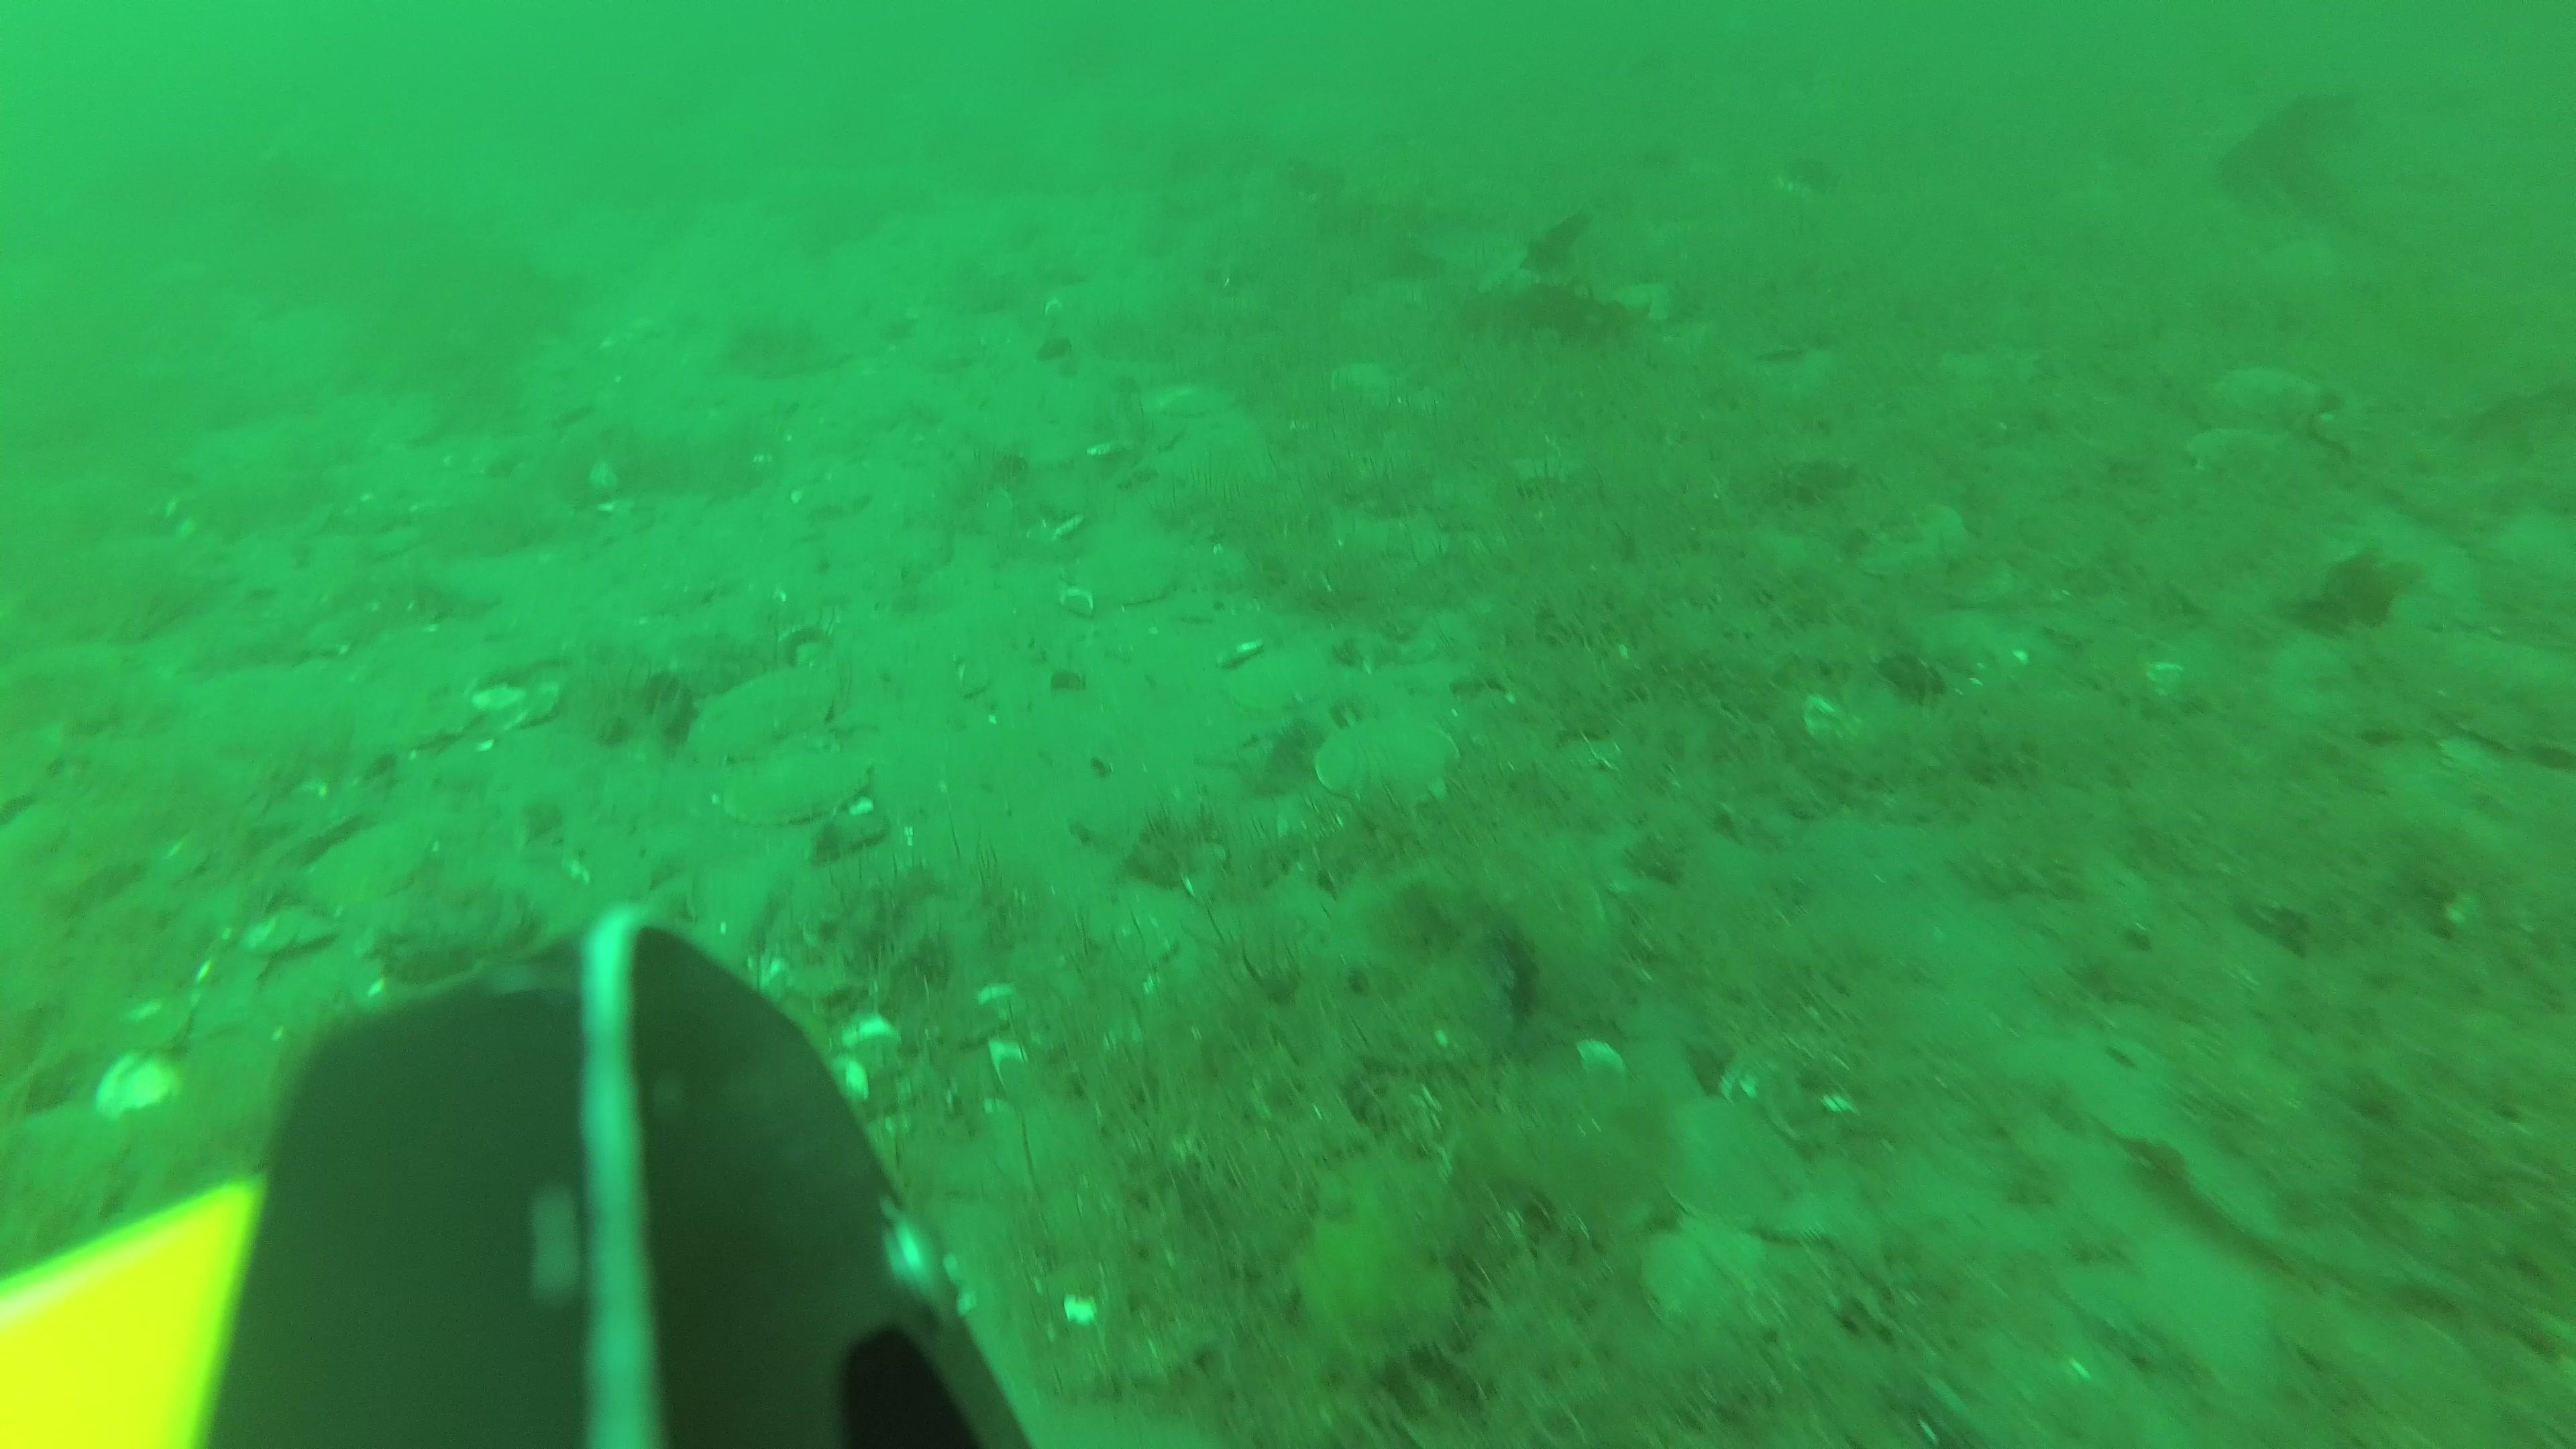scallop: (1658, 1092, 1798, 1226), (1644, 1214, 1766, 1339), (1313, 717, 1458, 821), (694, 656, 844, 755), (725, 741, 885, 826), (1863, 499, 1967, 579), (1092, 534, 1185, 609), (1235, 649, 1334, 715), (2208, 366, 2318, 423), (2183, 423, 2288, 481)
